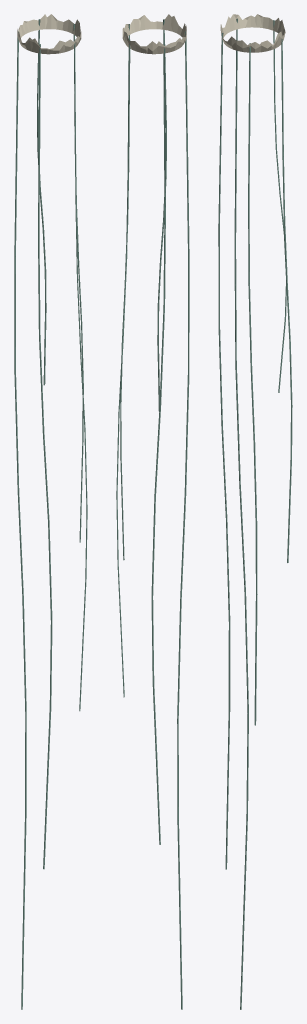
The model's file is broken_top.glb.
3 views of the same model, side by side, from view 1: azimuth 30°, elevation 25°; view 2: azimuth 210°, elevation 25°; view 3: azimuth 330°, elevation 25° (orthographic).
Parts seen in each view (by area): view 1: broken_top; view 2: broken_top; view 3: broken_top.
Part boxes in pixels (left/top/right/bottom): broken_top: left=14, top=14, right=87, bottom=1009; broken_top: left=116, top=14, right=189, bottom=1009; broken_top: left=218, top=14, right=292, bottom=1009.
Bounding box in the file's own units: 55.24 × 805 × 54.14.
